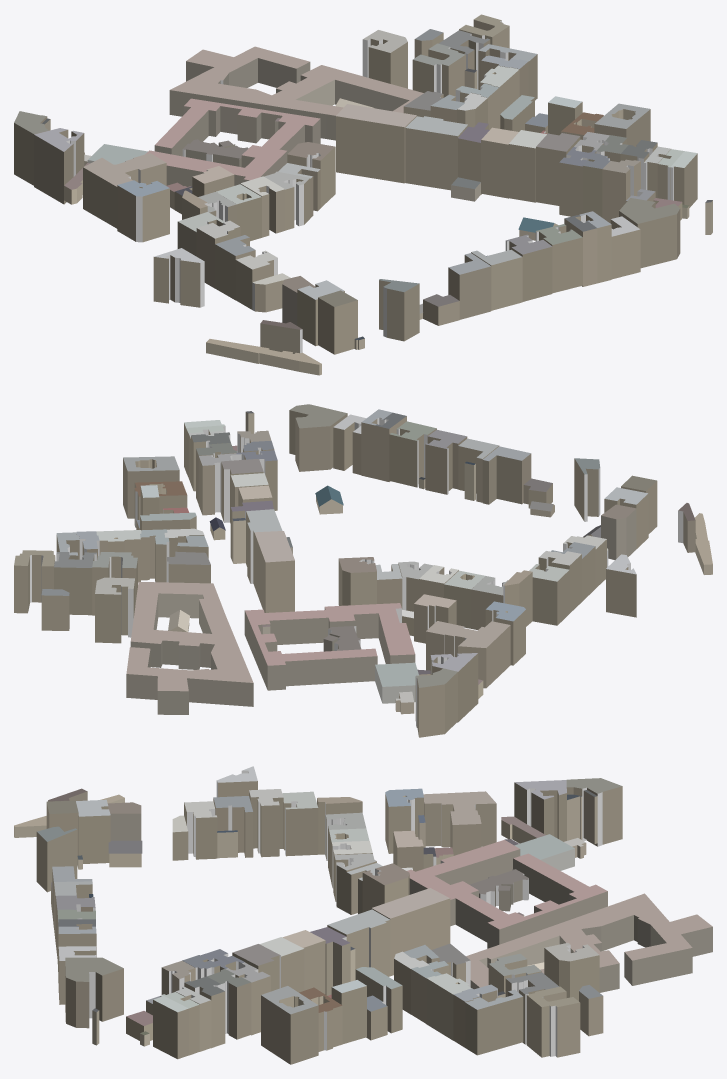
3 renders of one model, top to bottom at view 1: azimuth 30°, elevation 25°; view 2: azimuth 150°, elevation 25°; view 3: azimuth 270°, elevation 25°, orthographic. The views are drawn at different scales.
Parts seen in each view (by area): view 1: tuile; view 2: tuile; view 3: tuile.
Part boxes in pixels (<box>): tuile: <box>14,14,712,375</box>; tuile: <box>14,404,712,737</box>; tuile: <box>14,766,712,1064</box>.
Size of the model in its own units: 280 by 32.55 by 313.
